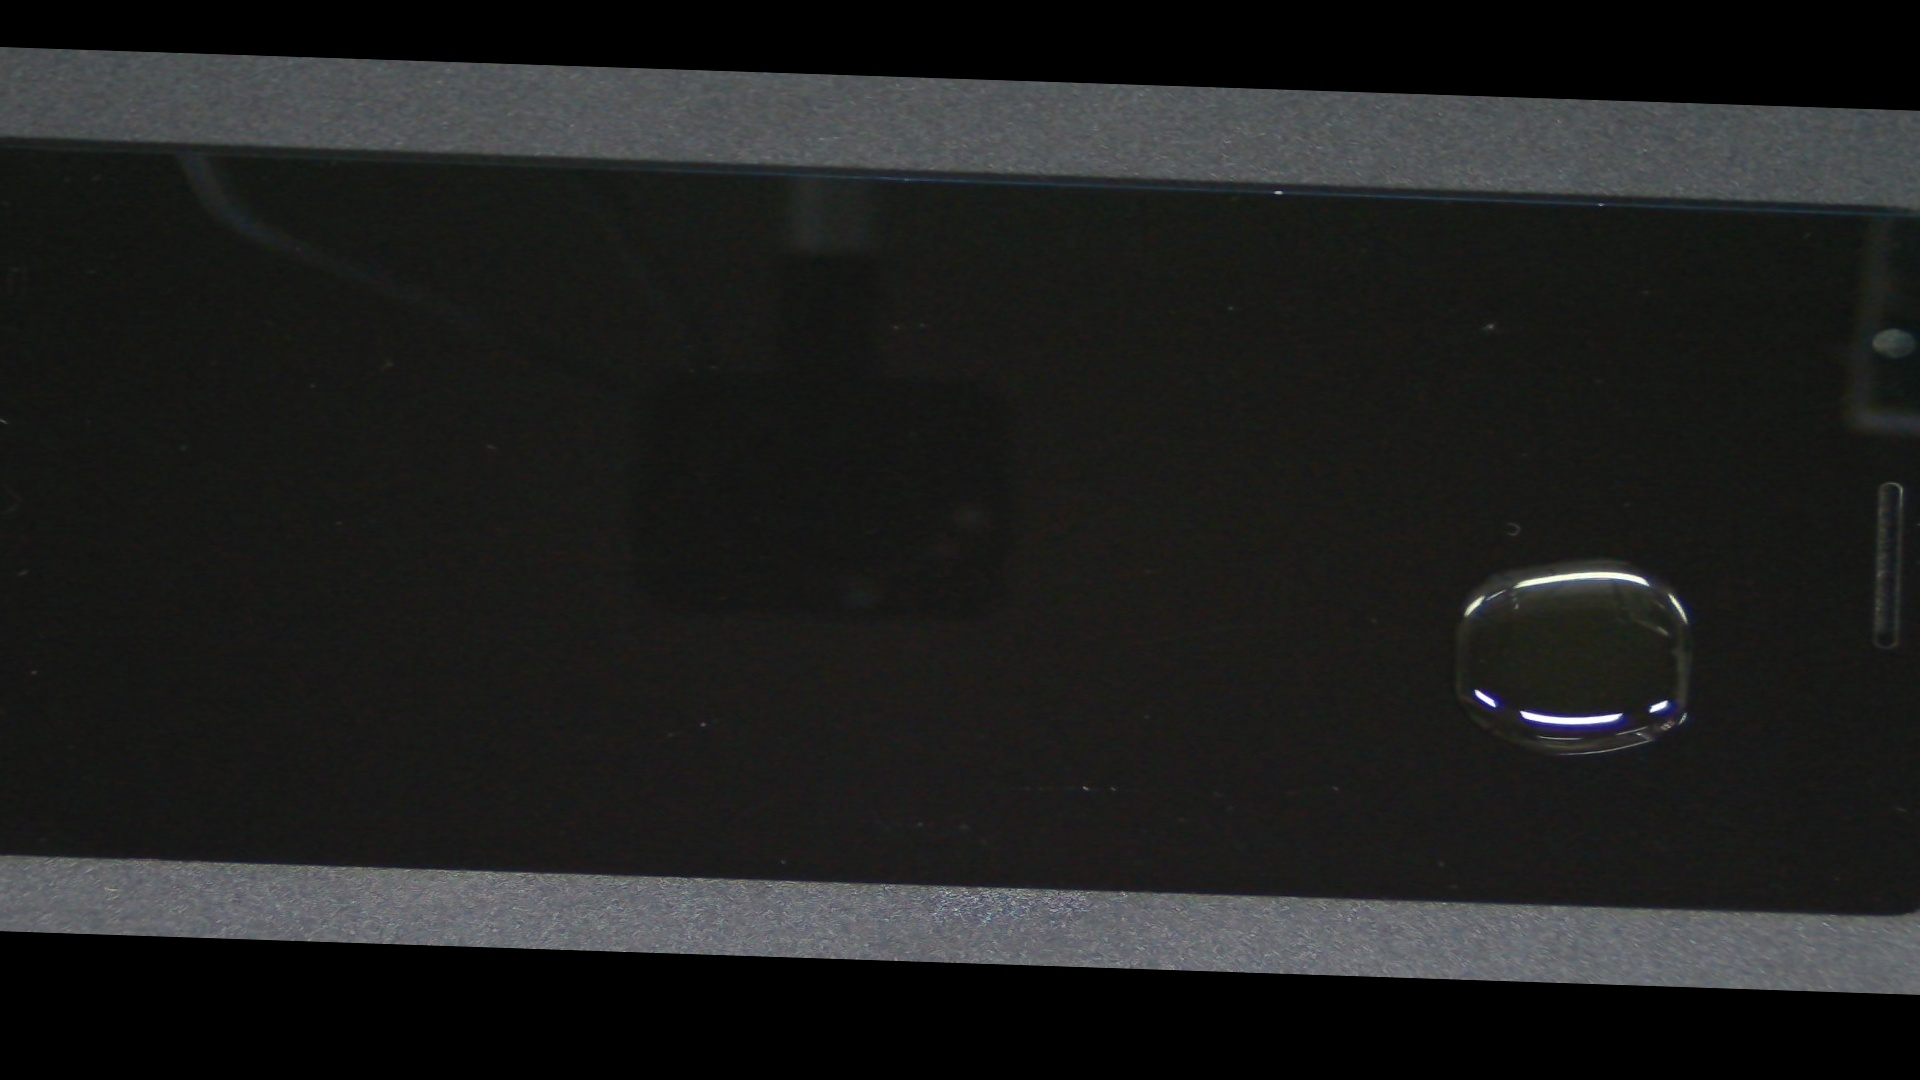oil: (667, 298, 1920, 802)
